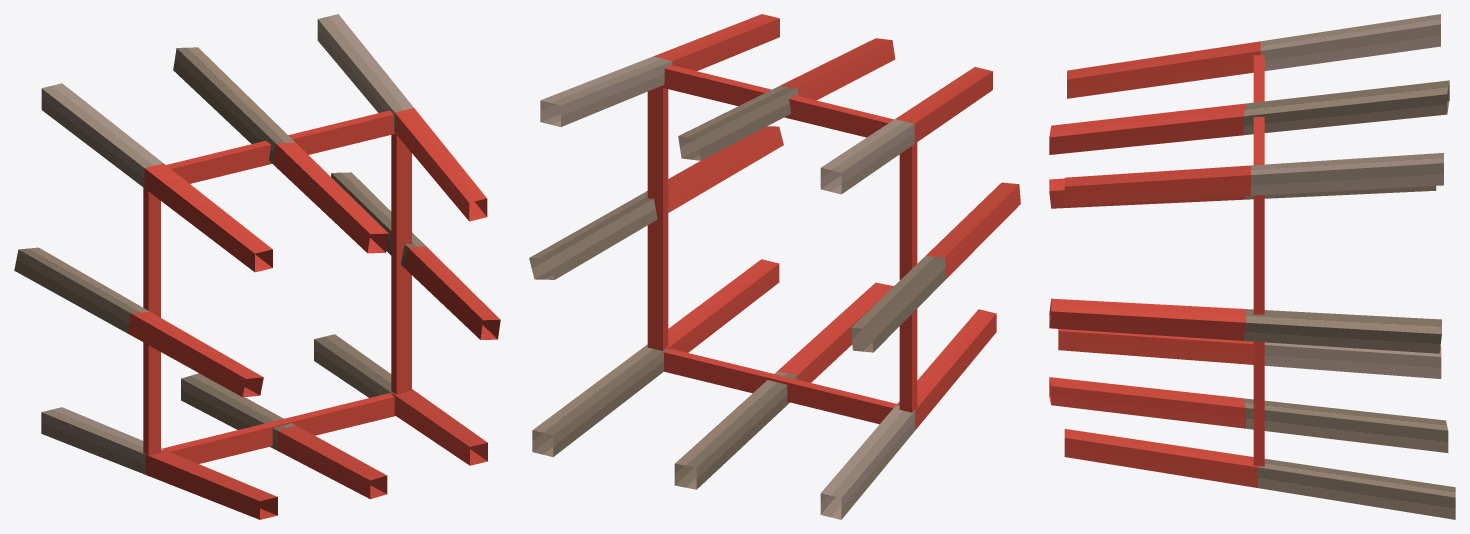
File: 241_radiotower_002.gltf
3 renders of one model, left to right at view 1: azimuth 30°, elevation 25°; view 2: azimuth 150°, elevation 25°; view 3: azimuth 270°, elevation 25°, orthographic. The views are drawn at different scales.
Visible parts, largest first — view 1: radiotower_002; view 2: radiotower_002; view 3: radiotower_002.
Boxes of the visible parts, box(x1,y1,x2,y2) form: radiotower_002: box(14, 14, 500, 519); radiotower_002: box(529, 14, 1020, 519); radiotower_002: box(1049, 14, 1455, 519).
Bounding box in the file's own units: 9.43 × 9.31 × 9.5.
1 material, 1 textured.
